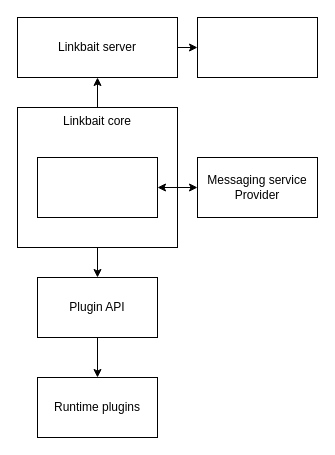
Image size: 335x455. Some labels were removed from this diagram. Here are the shapes that lost their labels. From the top down, the centre of each, then its label:
At pixel 257 47: "www".
At pixel 97 187: "Bot service API".
